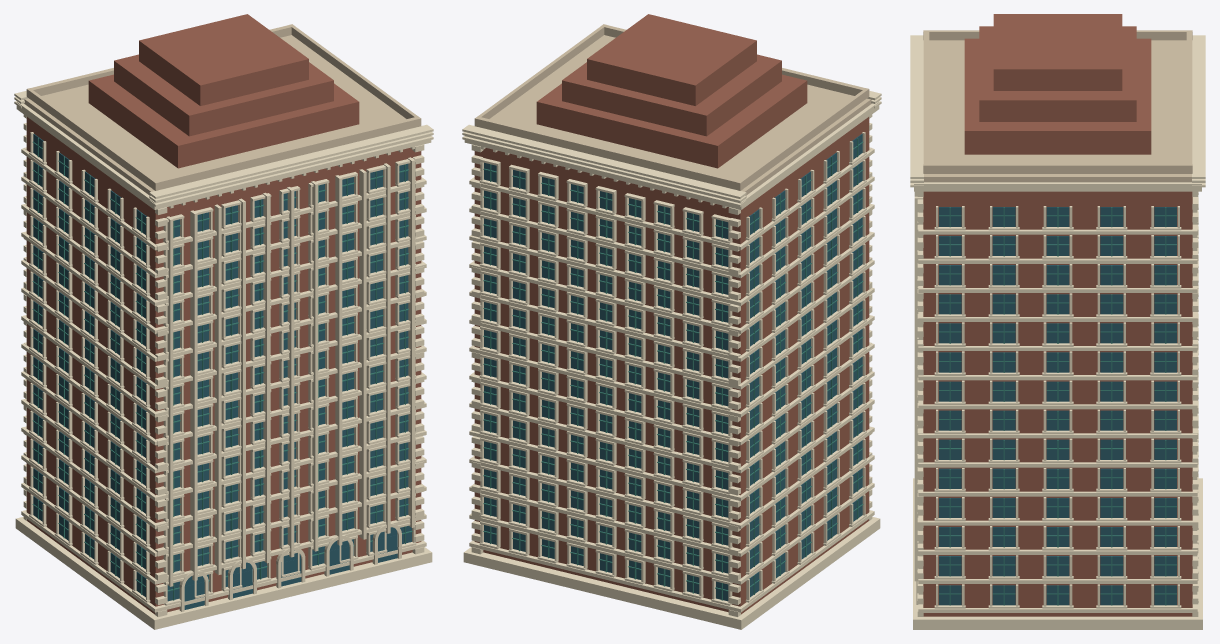
The model's file is metropole-hotel.glb.
3 views of the same model, side by side, from view 1: azimuth 30°, elevation 25°; view 2: azimuth 150°, elevation 25°; view 3: azimuth 270°, elevation 25° (orthographic). The views are drawn at different scales.
Visible parts, largest first — view 1: metropole-hotel; view 2: metropole-hotel; view 3: metropole-hotel.
Boxes of the visible parts, x1,y1,x2,y2 form: metropole-hotel: (14, 14, 433, 629); metropole-hotel: (462, 14, 881, 629); metropole-hotel: (910, 14, 1205, 629).
Size of the model in its own units: 27.92 by 47.6 by 24.61.
